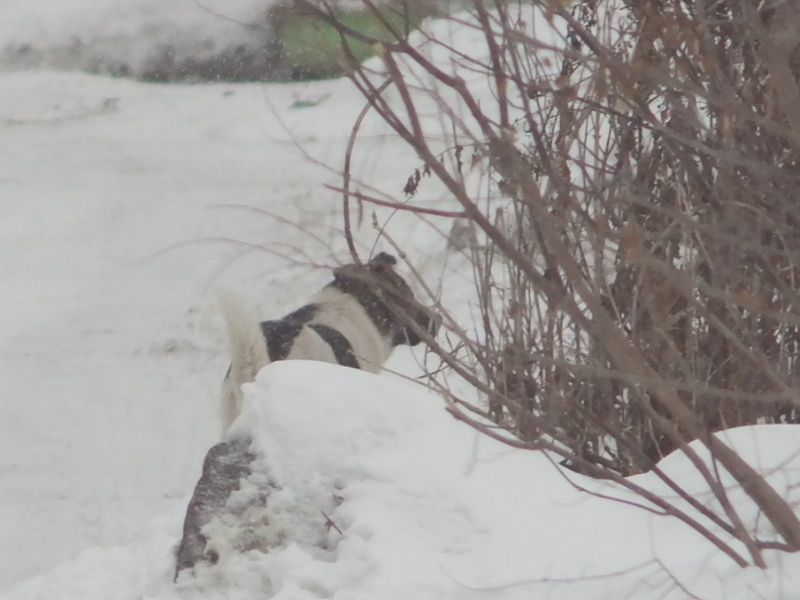dog: (211, 244, 448, 453)
